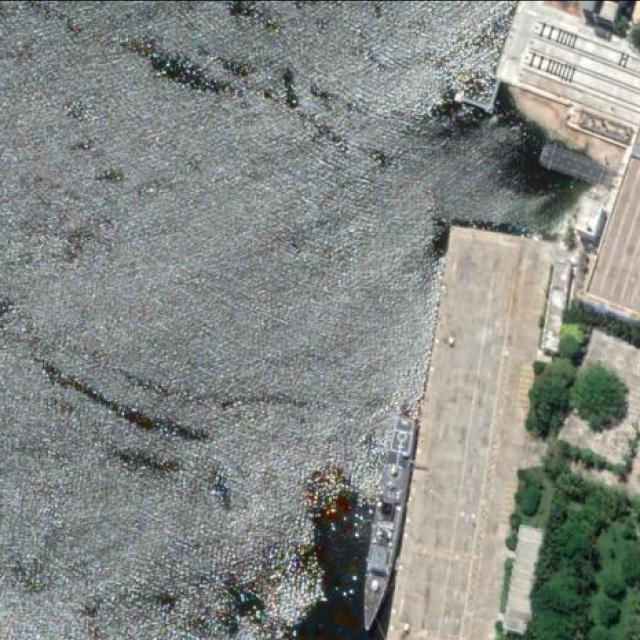Frigate: (355, 414, 420, 632)
